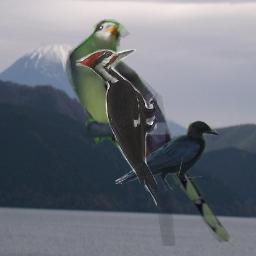Crow: (115, 120, 219, 194)
Cuckoo: (66, 19, 242, 246)
Woodpecker: (76, 49, 157, 207)
